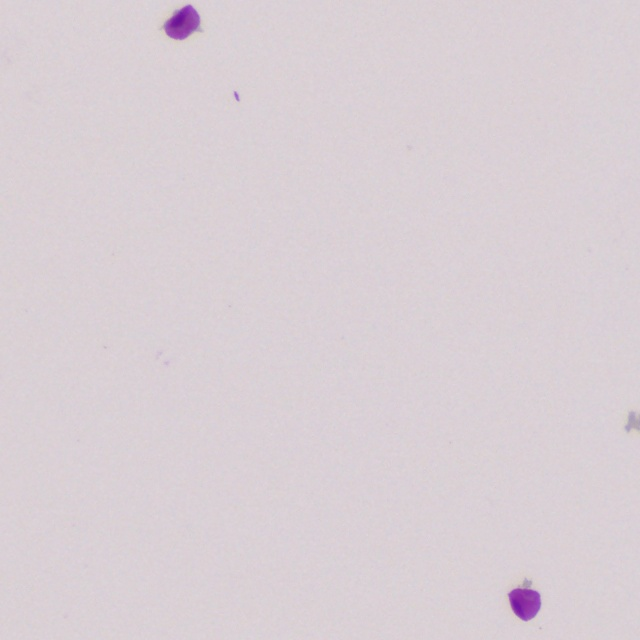viable: (165, 6, 200, 39), (509, 589, 540, 620)
